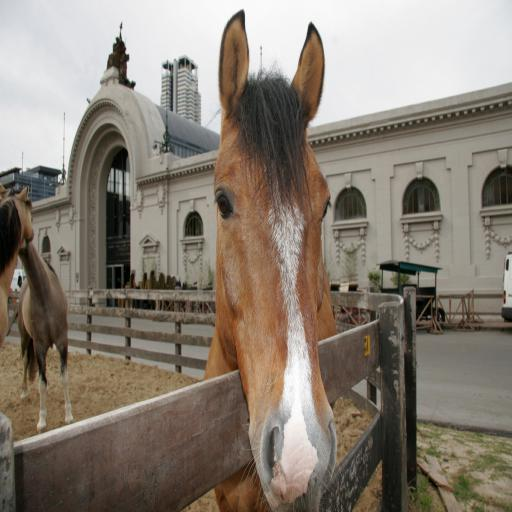horse: (200, 2, 340, 512), (15, 239, 70, 434), (0, 180, 37, 344)
